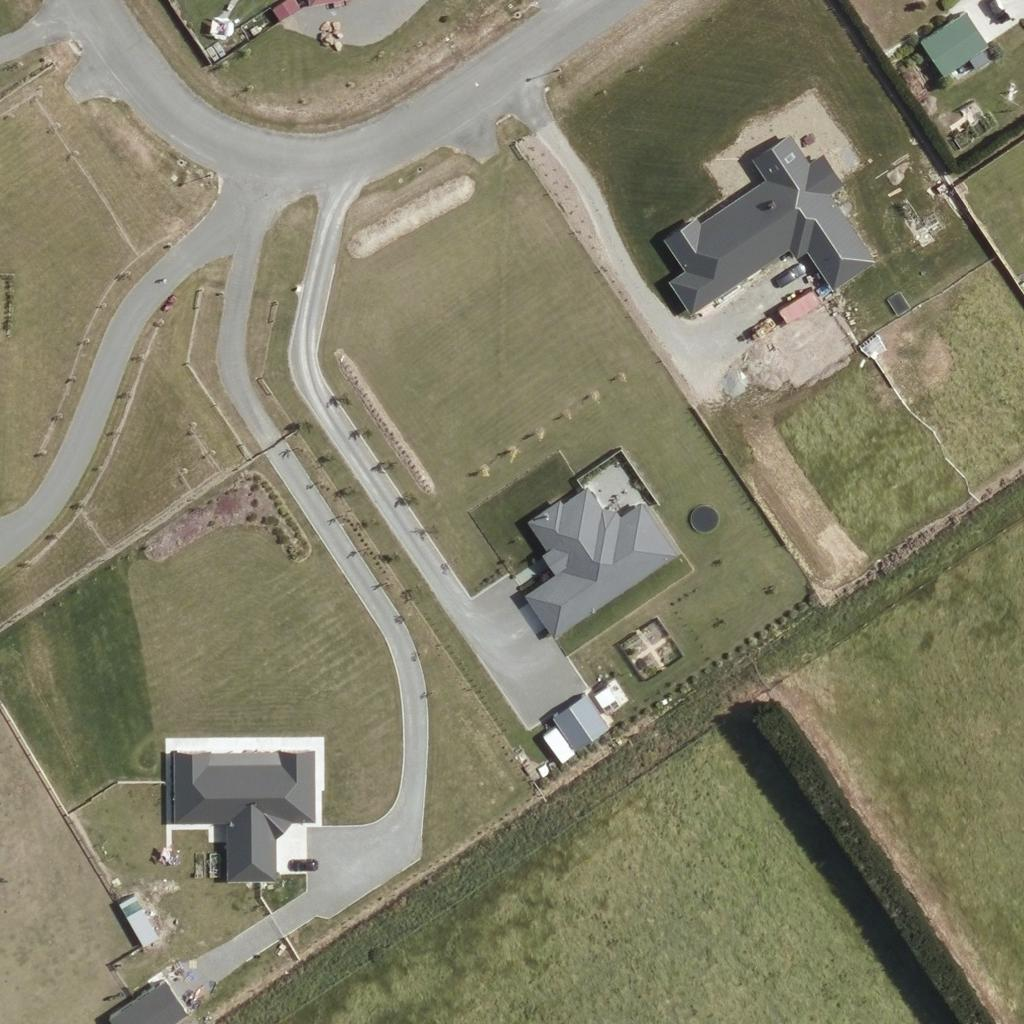car: (771, 258, 805, 292), (283, 846, 317, 880)
